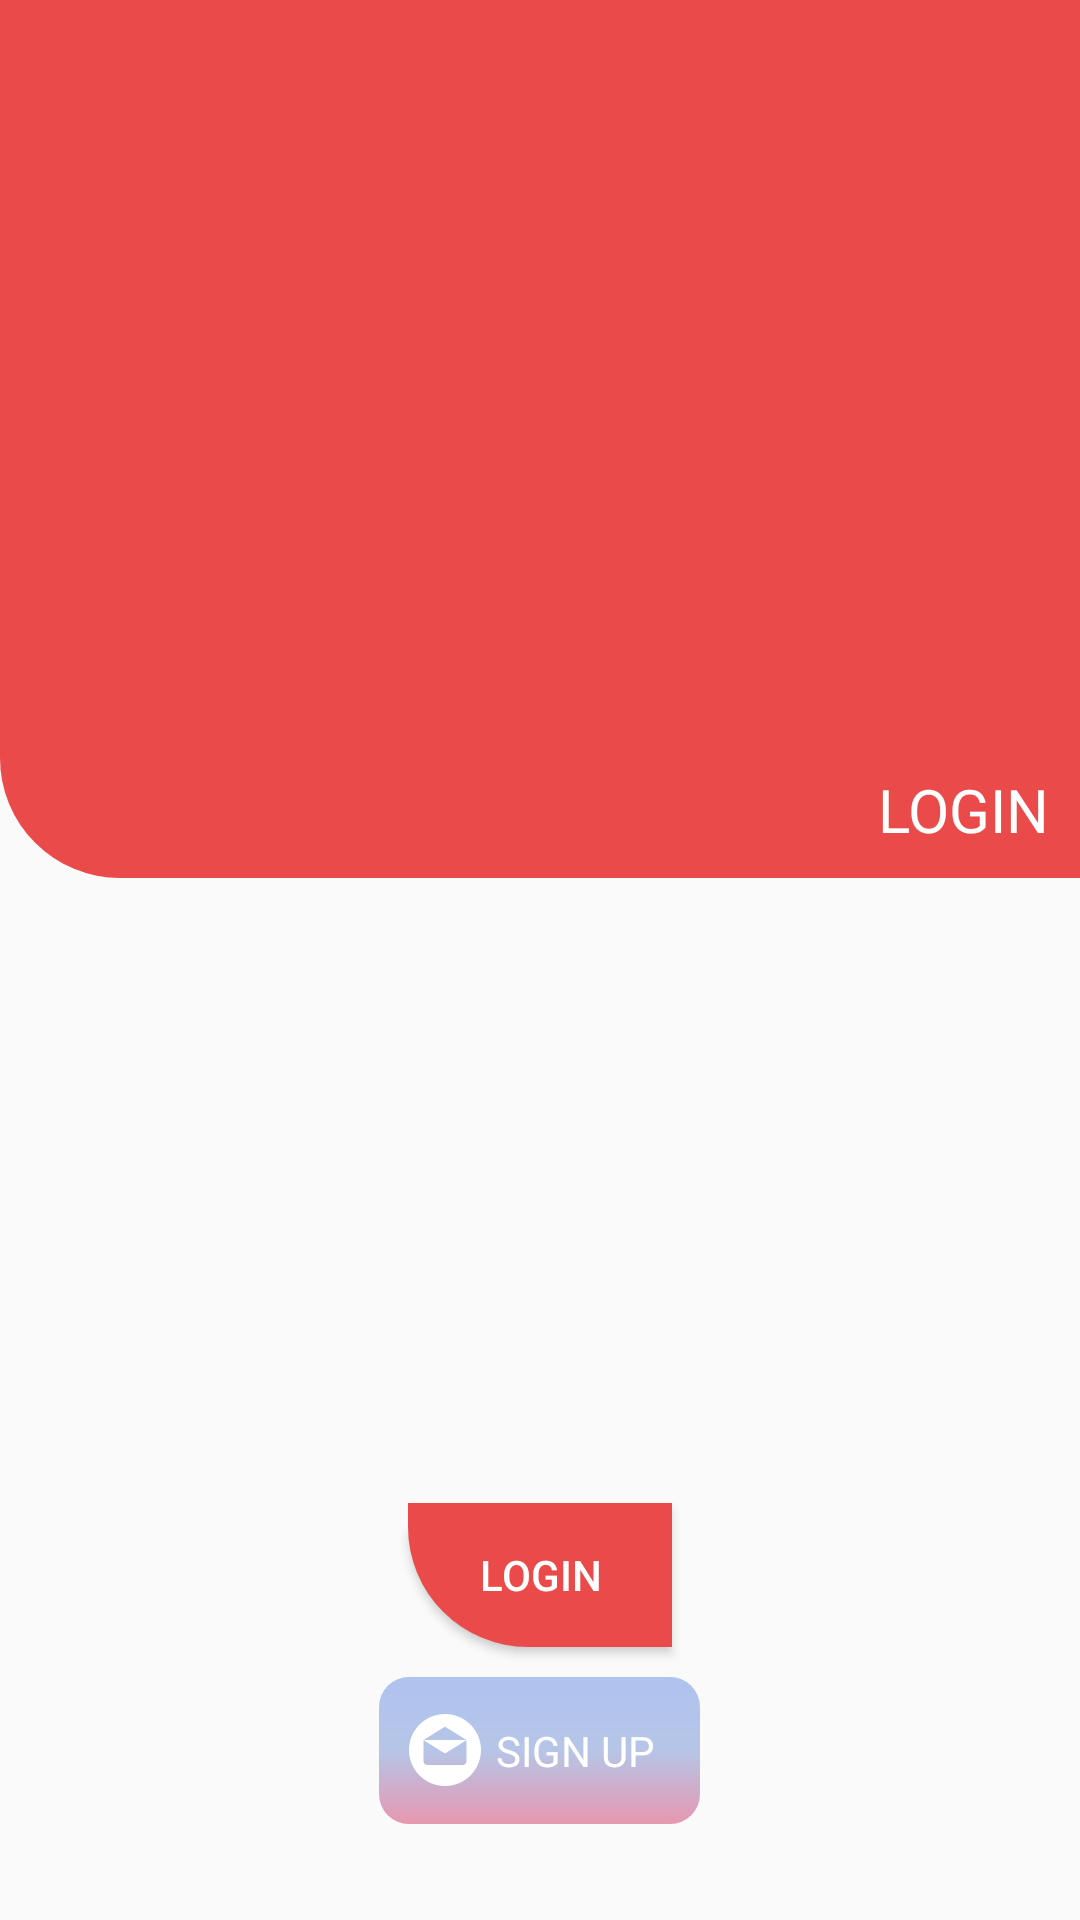

Icons on this 1080w x 1920h Android screen, each with the point to tap as point (x, y):
email round: point (445, 1750)
